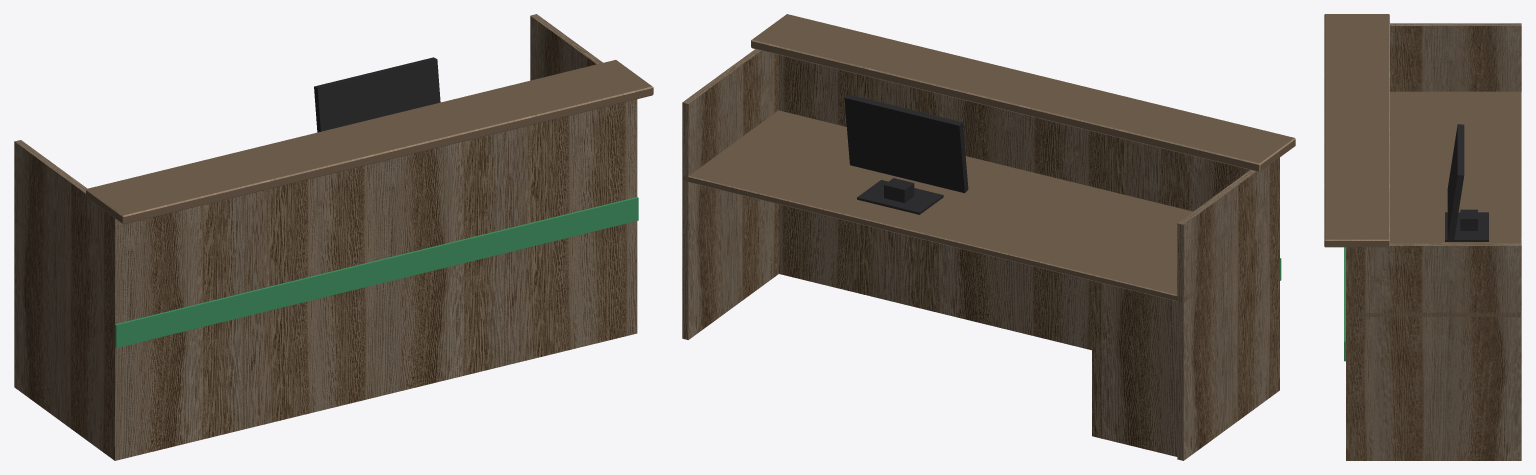
The model's file is front_desk.glb.
3 renders of one model, left to right at view 1: azimuth 30°, elevation 25°; view 2: azimuth 150°, elevation 25°; view 3: azimuth 270°, elevation 25°, orthographic. The views are drawn at different scales.
Parts seen in each view (by area): view 1: front_desk; view 2: front_desk; view 3: front_desk.
Boxes of the visible parts, bbox=[...] form: front_desk: bbox=[14, 14, 653, 460]; front_desk: bbox=[682, 14, 1295, 460]; front_desk: bbox=[1324, 14, 1521, 460].
Size of the model in its own units: 2.44 by 1.15 by 0.9.
4 materials, 2 textured.
